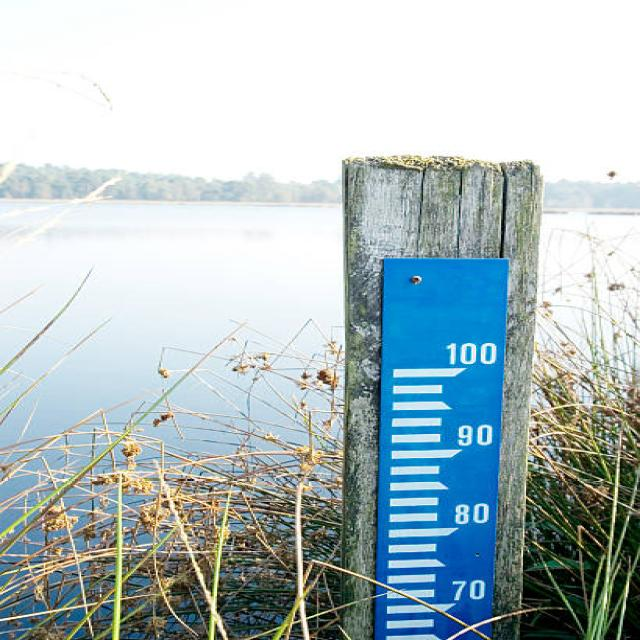10: (443, 340, 479, 368)
70: (449, 575, 488, 602)
80: (455, 502, 491, 526)
90: (457, 421, 494, 448)
staff: (382, 313, 501, 640)
